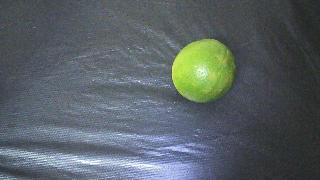LOCAL: (172, 39, 236, 103)
